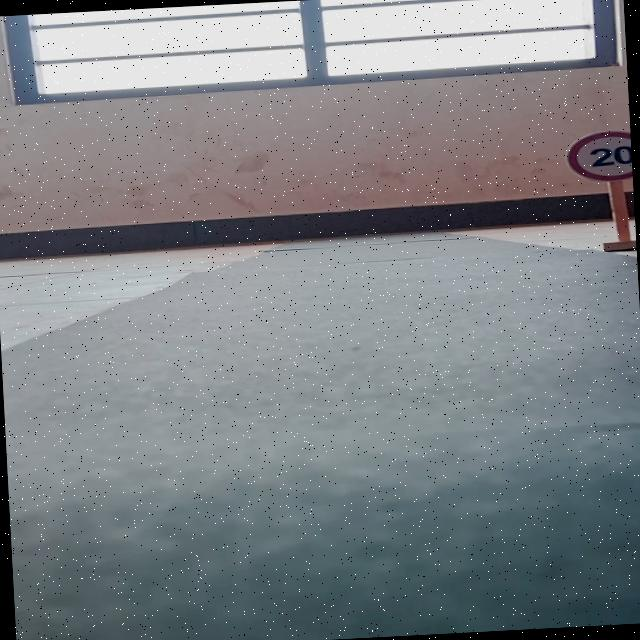Speed20: (544, 125, 633, 189)
